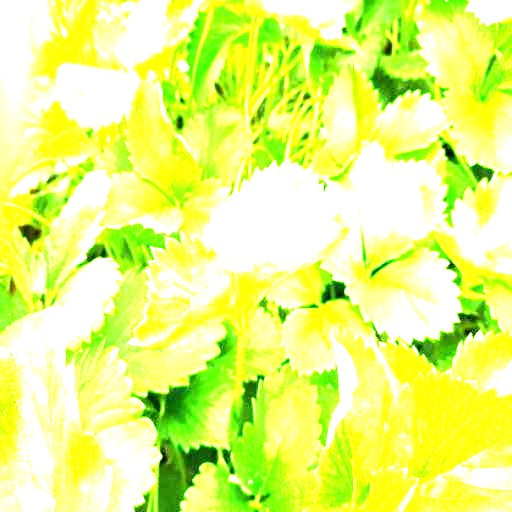Powdery Mildew Leaf: (299, 322, 397, 511), (223, 200, 361, 332), (203, 158, 326, 263)
